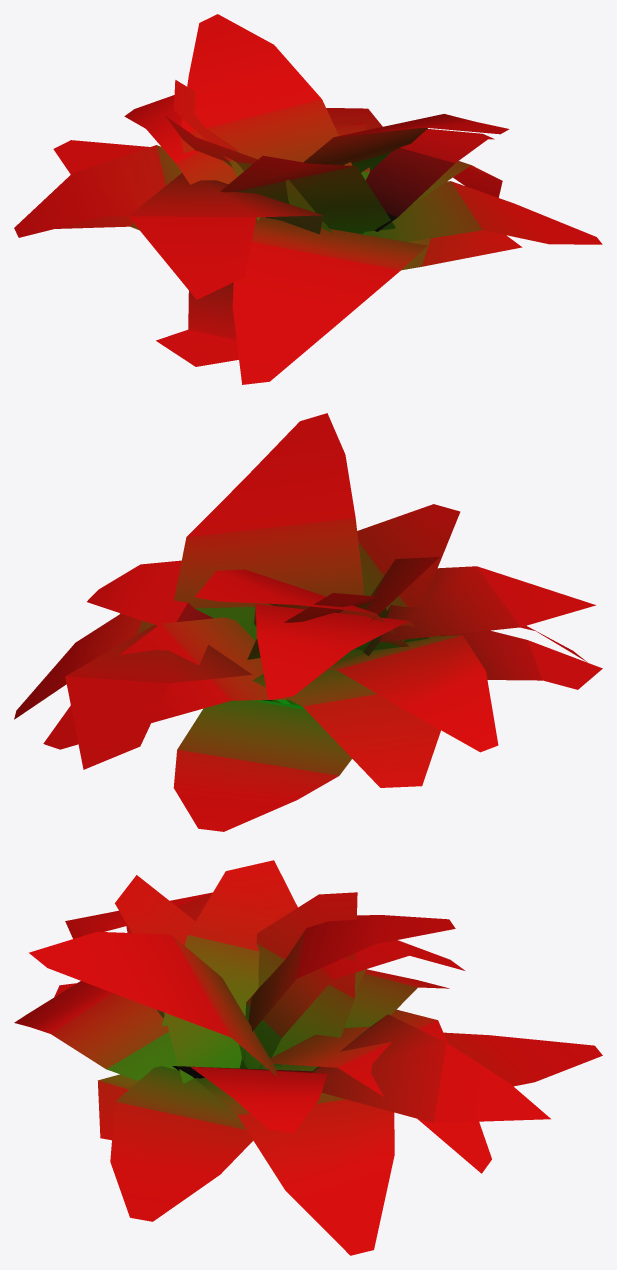
File: Fern_Var3_LOD3.fbx
3 views of the same model, one above another, from view 1: azimuth 30°, elevation 25°; view 2: azimuth 150°, elevation 25°; view 3: azimuth 270°, elevation 25° (orthographic). The views are drawn at different scales.
Parts seen in each view (by area): view 1: Var3_LOD3; view 2: Var3_LOD3; view 3: Var3_LOD3.
Boxes of the visible parts, <box> form: Var3_LOD3: <box>14,14,602,384</box>; Var3_LOD3: <box>14,413,602,831</box>; Var3_LOD3: <box>14,860,602,1255</box>.
Size of the model in its own units: 56.4 by 24.52 by 57.94.
